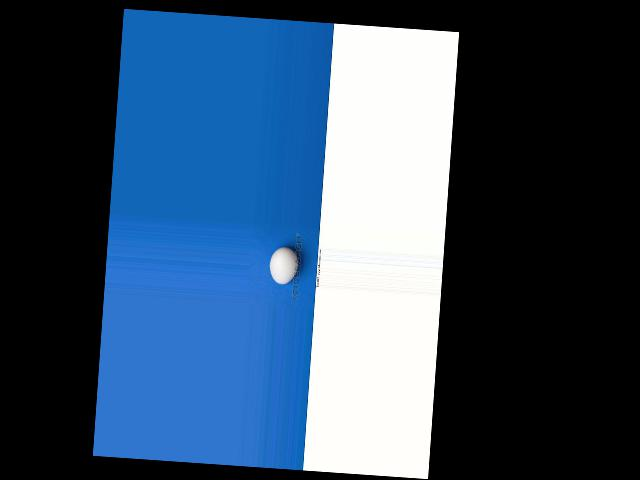egg: (268, 246, 300, 285)
